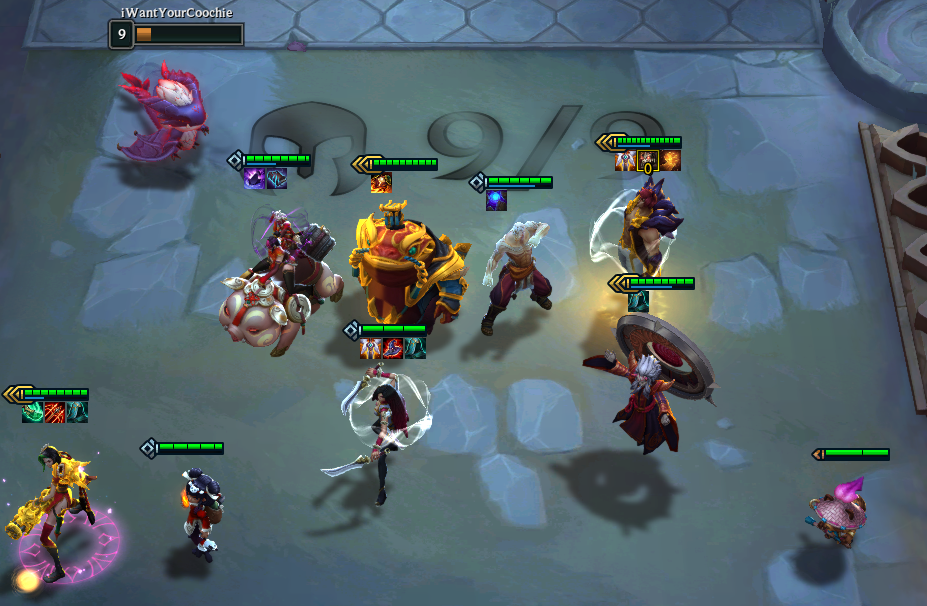1star_teemo: (783, 437, 906, 566)
2star_annie: (131, 430, 242, 576)
2star_katarina: (311, 317, 442, 527)
2star_leesin: (461, 159, 574, 354)
2star_sejuani: (209, 146, 348, 366)
3star_jinx: (1, 374, 134, 605)
3star_sett: (579, 127, 694, 336)
3star_tahmkench: (343, 144, 479, 357)
3star_zilean: (569, 263, 724, 490)
item_bluebuff: (483, 187, 509, 213)
item_ga: (357, 333, 383, 359), (613, 147, 639, 173)
item_hoj: (656, 147, 682, 173)
item_morello: (263, 165, 289, 191)
item_quicksilver: (66, 398, 92, 424), (403, 333, 429, 359), (625, 288, 651, 314)
item_rabadon: (380, 334, 406, 360)
item_runaan: (41, 399, 67, 425)
item_shojin: (20, 399, 46, 425)
item_sunfire: (367, 169, 393, 195)
item_titan: (635, 145, 661, 175)
item_zzrot: (241, 164, 267, 190)
